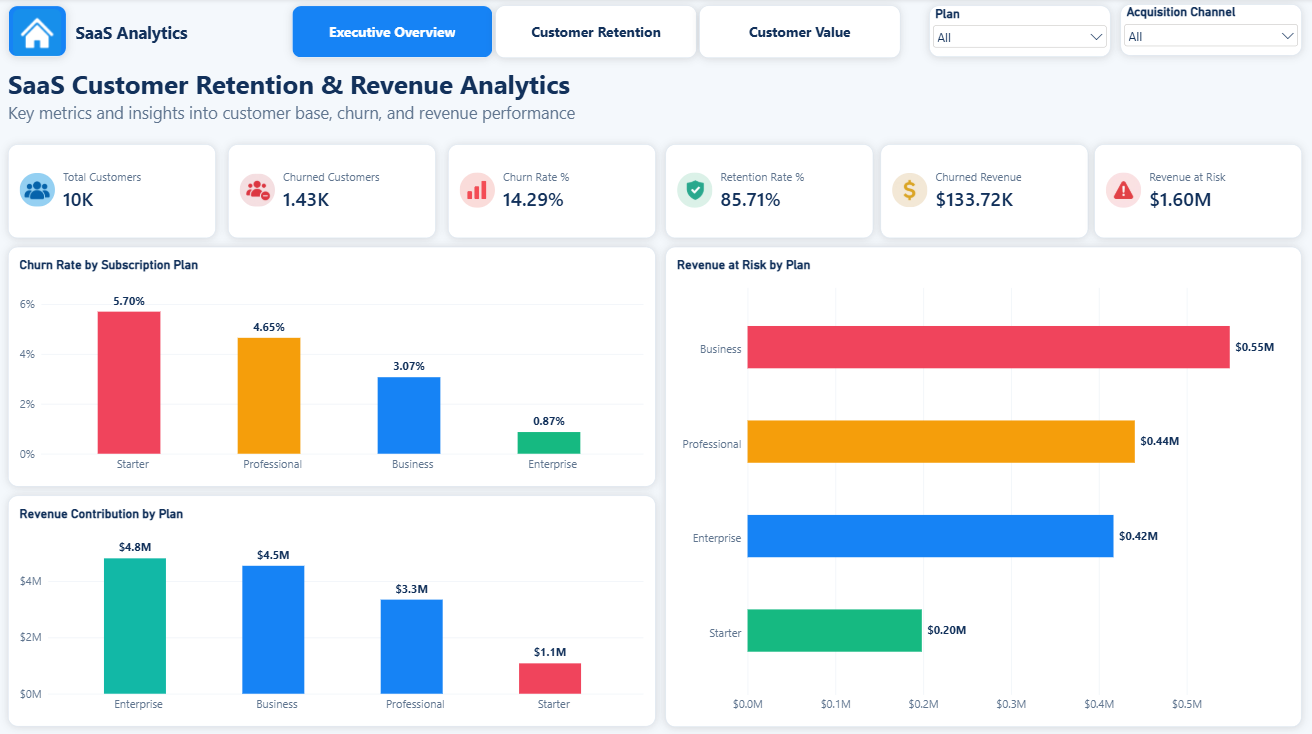

The page's visual inventory and layout, read from the dashboard file:
{"tool":"powerbi","page":{"name":"Executive Overview","canvas":[1920,1080],"ordinal":1},"visuals":[{"type":"textbox","box":[21.7,99.5,1873,97.7],"z":0},{"type":"cardVisual","fields":{"Data":["measures_table.Total Customers"]},"box":[21.7,211.7,300.4,135.7],"z":1000},{"type":"cardVisual","fields":{"Data":["measures_table.Churn Rate %"]},"box":[658.7,211.7,300.4,135.7],"z":2000},{"type":"cardVisual","fields":{"Data":["measures_table.Churned Customers"]},"box":[340.2,211.7,300.4,135.7],"z":3000},{"type":"cardVisual","fields":{"Data":["measures_table.Churned Revenue"]},"box":[1284.9,211.7,300.4,135.7],"z":4000},{"type":"cardVisual","fields":{"Data":["measures_table.Retention Rate %"]},"box":[973.6,211.7,300.4,135.7],"z":5000},{"type":"cardVisual","fields":{"Data":["measures_table.Revenue at Risk"]},"box":[1594.3,211.7,300.4,135.7],"z":6000},{"type":"clusteredColumnChart","title":"Churn Rate by Subscription Plan","fields":{"Category":["dim_plan.plan_name"],"Y":["measures_table.Churn Rate %"]},"box":[21.7,360.1,937.4,347.5],"z":7000},{"type":"clusteredColumnChart","title":"Revenue Contribution by Plan","fields":{"Category":["dim_plan.plan_name"],"Y":["measures_table.Total Revenue"]},"box":[21.7,720.2,937.4,334.8],"z":8000},{"type":"clusteredBarChart","title":"Revenue at Risk by Plan","fields":{"Category":["dim_plan.plan_name"],"Y":["measures_table.Revenue at Risk"]},"box":[973.6,360.1,921.1,694.9],"z":9000},{"type":"slicer","title":"Plan","fields":{"Values":["dim_plan.plan_name"]},"box":[1355.4,10.9,262.4,74.2],"z":10000},{"type":"slicer","title":"Plan","fields":{"Values":["dim_customer.acquisition_channel"]},"box":[1632.3,9,262.4,74.2],"z":11000},{"type":"actionButton","box":[432.5,10.9,291.4,76],"z":12000},{"type":"actionButton","box":[727.5,10.9,291.4,76],"z":13000},{"type":"actionButton","box":[1022.5,10.9,291.4,76],"z":14000},{"type":"textbox","box":[119.4,34.4,280.5,48.9],"z":15000},{"type":"actionButton","box":[21.7,10.9,85.1,74.2],"z":16000}]}

Visuals, with their boxes on the page's 1920x1080 design canvas (x1, y1, x2, y2). These are canvas units, not pixel positions in the 1312x734 screenshot, which may show the page scaled, cropped or inside an application window:
textbox: (22, 100, 1895, 197)
cardVisual - measures_table.Total Customers: (22, 212, 322, 347)
cardVisual - measures_table.Churn Rate %: (659, 212, 959, 347)
cardVisual - measures_table.Churned Customers: (340, 212, 641, 347)
cardVisual - measures_table.Churned Revenue: (1285, 212, 1585, 347)
cardVisual - measures_table.Retention Rate %: (974, 212, 1274, 347)
cardVisual - measures_table.Revenue at Risk: (1594, 212, 1895, 347)
"Churn Rate by Subscription Plan" clusteredColumnChart: (22, 360, 959, 708)
"Revenue Contribution by Plan" clusteredColumnChart: (22, 720, 959, 1055)
"Revenue at Risk by Plan" clusteredBarChart: (974, 360, 1895, 1055)
"Plan" slicer: (1355, 11, 1618, 85)
"Plan" slicer: (1632, 9, 1895, 83)
actionButton: (432, 11, 724, 87)
actionButton: (728, 11, 1019, 87)
actionButton: (1022, 11, 1314, 87)
textbox: (119, 34, 400, 83)
actionButton: (22, 11, 107, 85)
